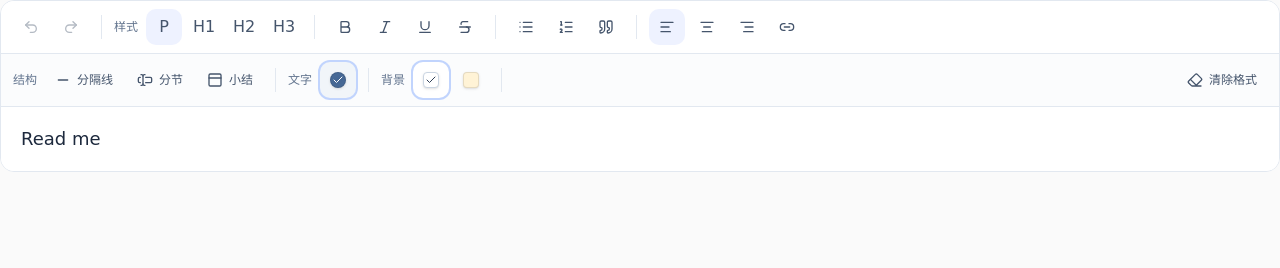
Test: shared simple editor › blocks unsafe link input before writing the document
Click the button named "插入链接" at (787, 27), box [769, 9, 805, 45]
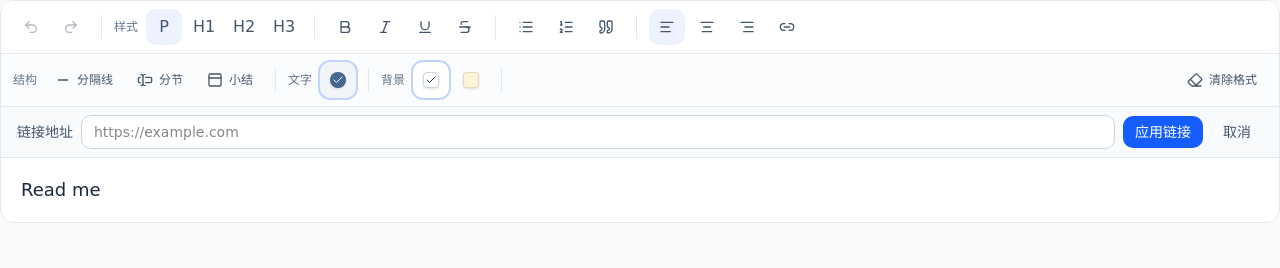
Type "javascript:alert(1)" into the field labelled "链接地址" at (598, 132), box [81, 115, 1115, 149]
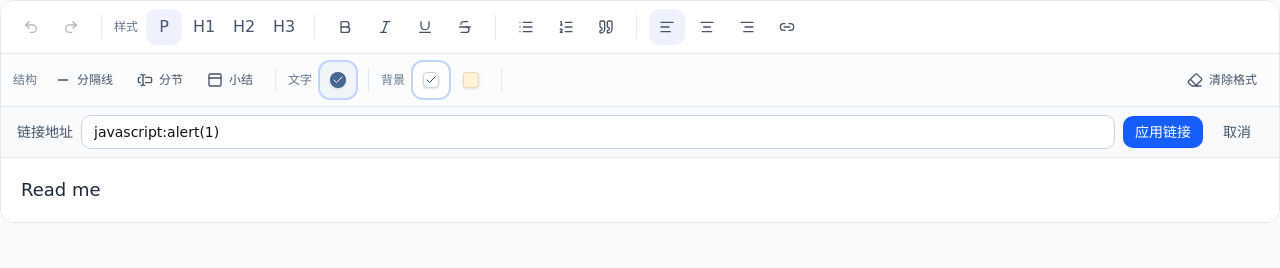
Click the button "应用链接" at (1163, 132), box [1123, 116, 1203, 148]
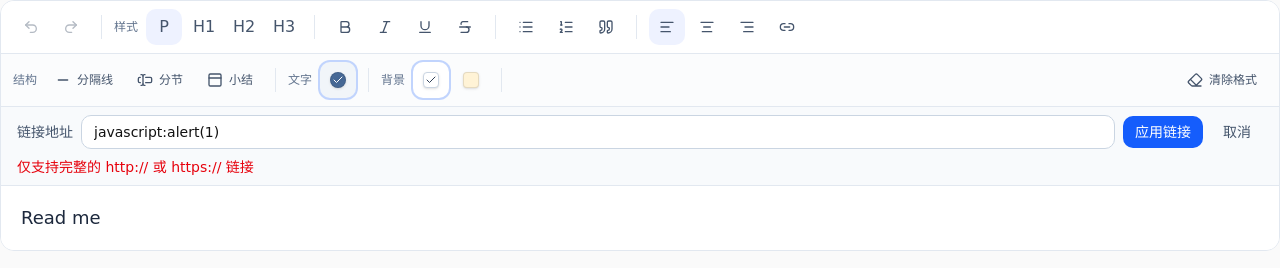
Now the message shows "http", box [17, 159, 254, 175]
